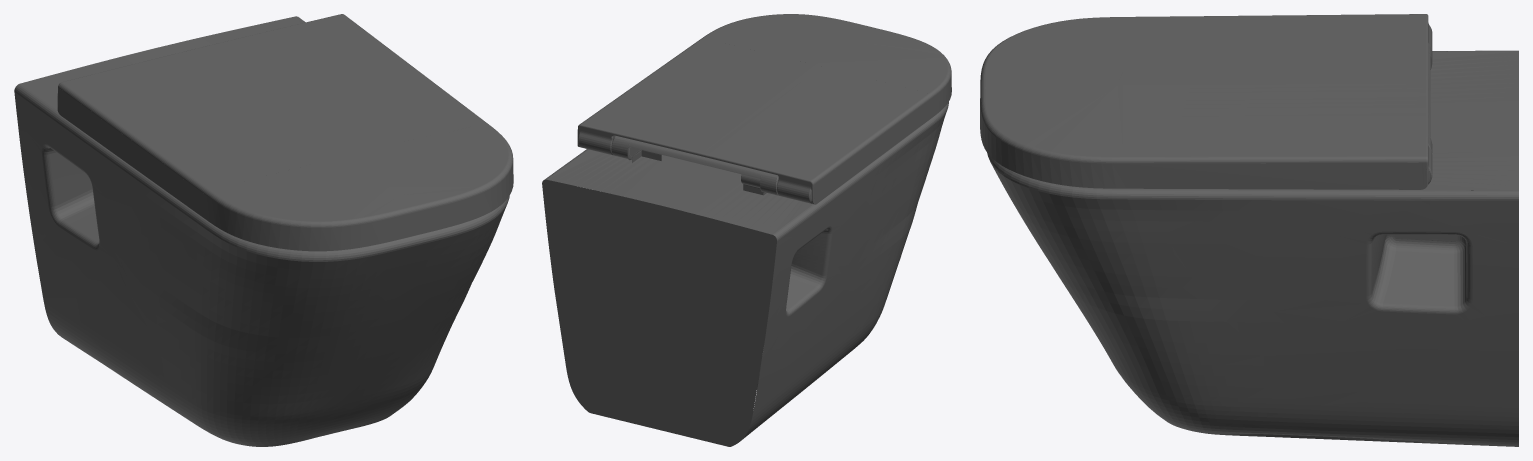
Rendered from AEC_48650.glb.
3 renders of one model, left to right at view 1: azimuth 30°, elevation 25°; view 2: azimuth 150°, elevation 25°; view 3: azimuth 270°, elevation 25°, orthographic. The views are drawn at different scales.
Visible parts, largest first — view 1: 0; view 2: 0; view 3: 0.
Part boxes in pixels (x1=…): 0: x1=14, y1=14, x2=513, y2=446; 0: x1=542, y1=14, x2=951, y2=446; 0: x1=980, y1=14, x2=1518, y2=446.
Size of the model in its own units: 0.3501 by 0.3868 by 0.545.
1 material, 1 textured.
